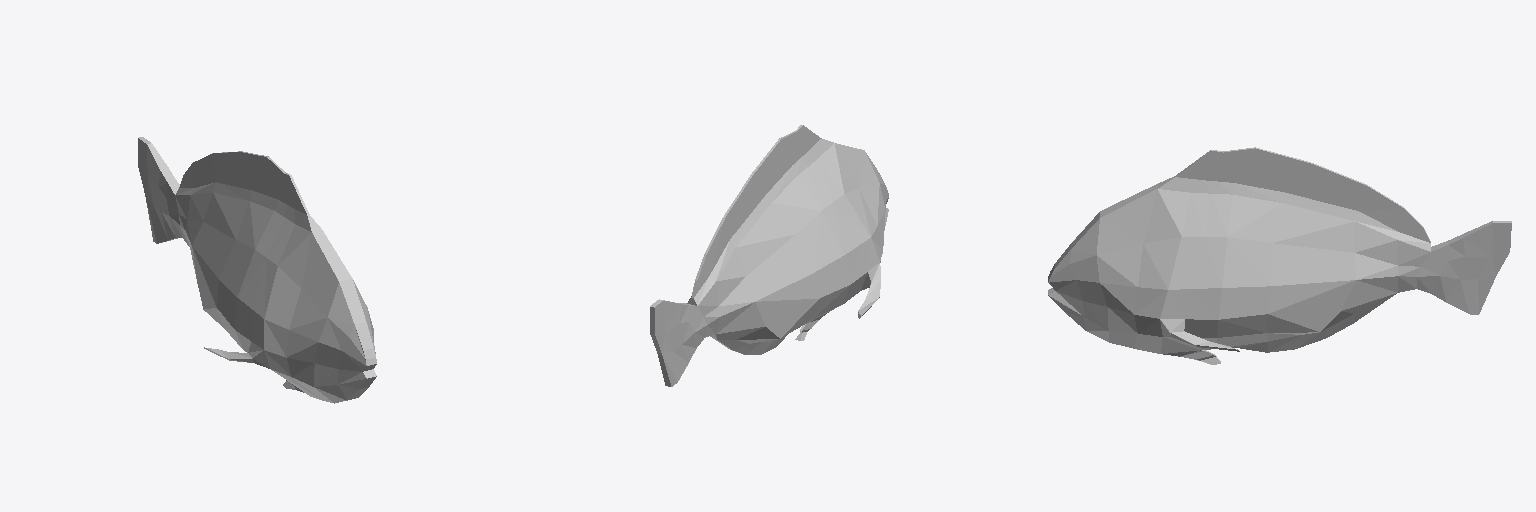
The model's file is TropicalFish02.obj.
3 renders of one model, left to right at view 1: azimuth 30°, elevation 25°; view 2: azimuth 150°, elevation 25°; view 3: azimuth 270°, elevation 25°, orthographic.
Visible parts, largest first — view 1: TropicalFish02; view 2: TropicalFish02; view 3: TropicalFish02.
Part boxes in pixels (bbox=[...]): TropicalFish02: bbox=[138, 137, 376, 403]; TropicalFish02: bbox=[650, 125, 888, 386]; TropicalFish02: bbox=[1048, 147, 1511, 364].
Bounding box in the file's own units: 165 × 235 × 457.